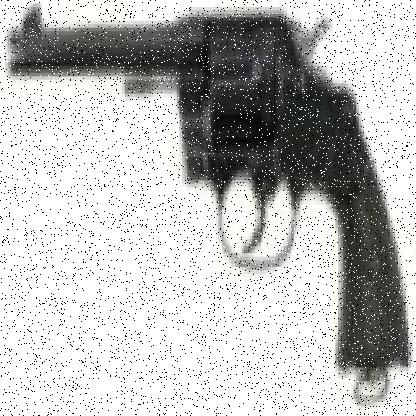pistol: (10, 3, 410, 364)
